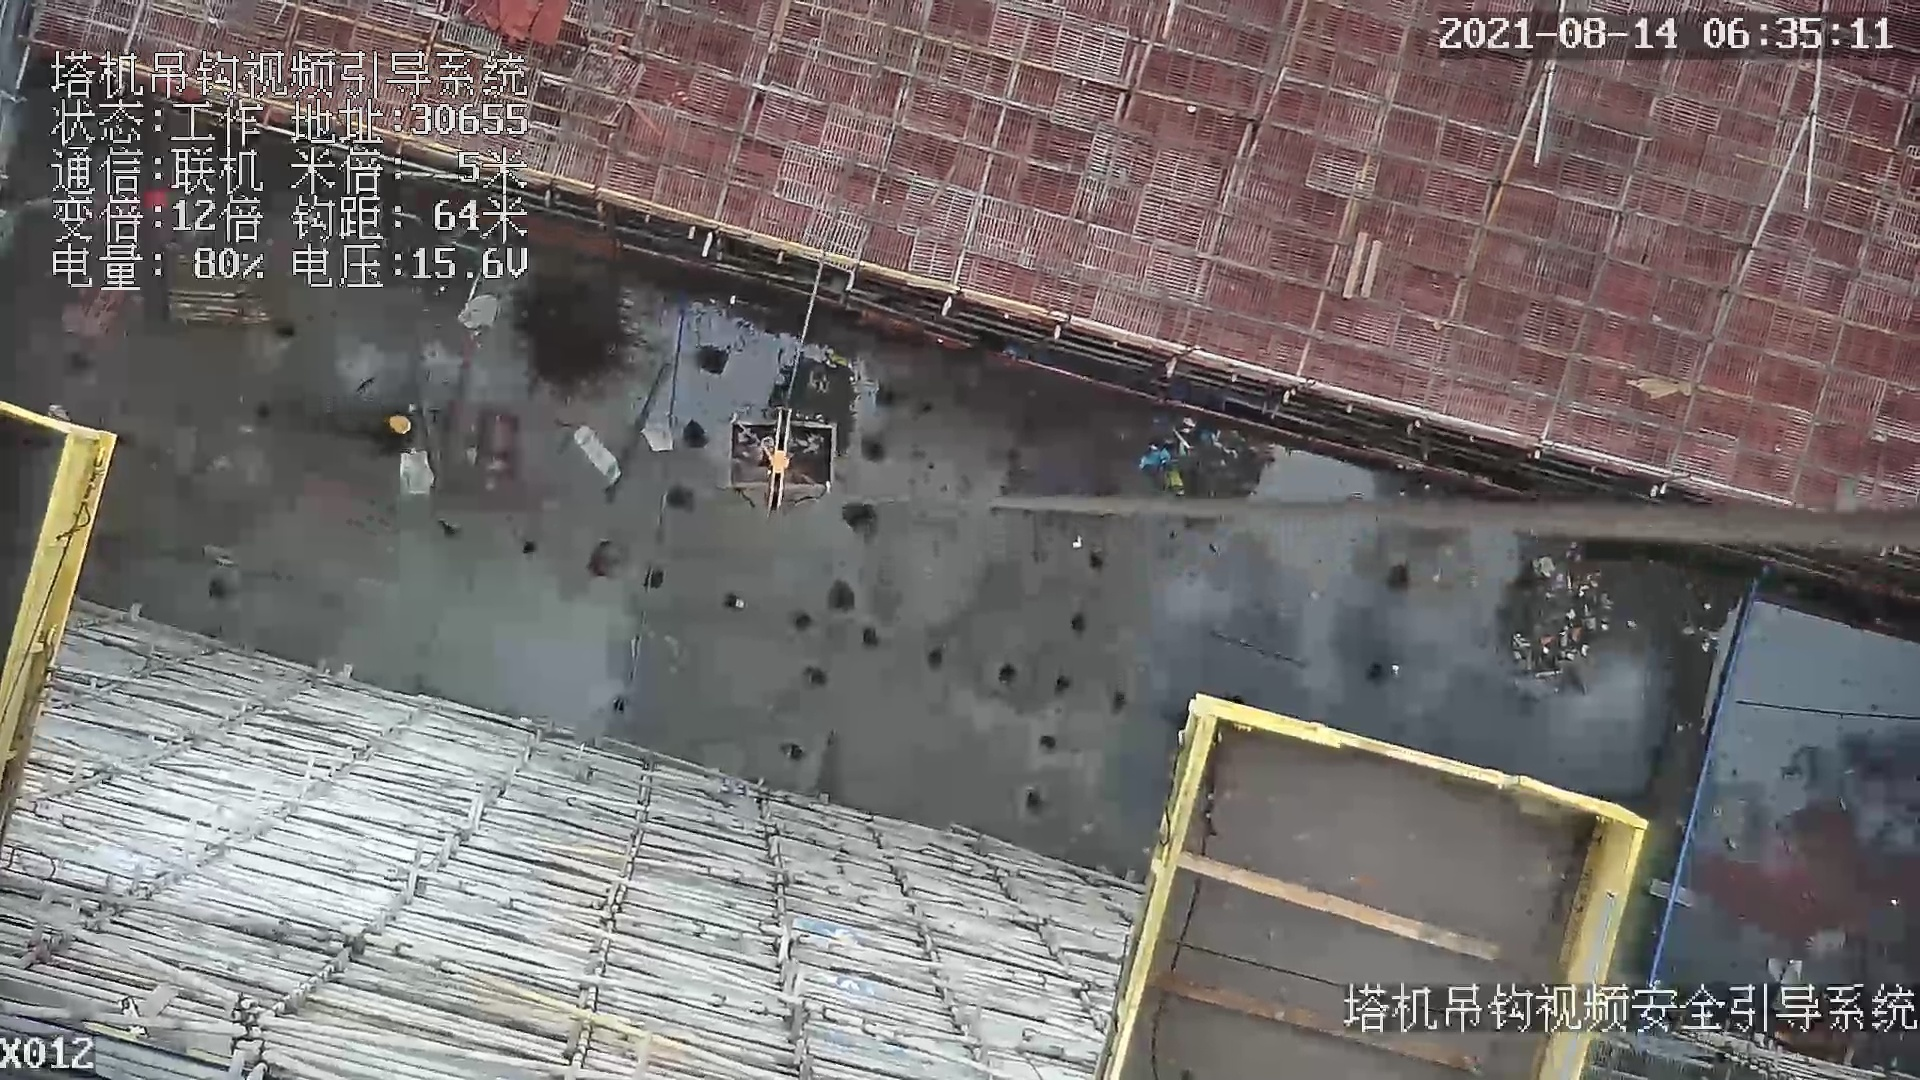helmet: (390, 413, 413, 435)
hook: (765, 408, 795, 517)
hopper: (706, 418, 846, 508)
person: (370, 408, 424, 464)
